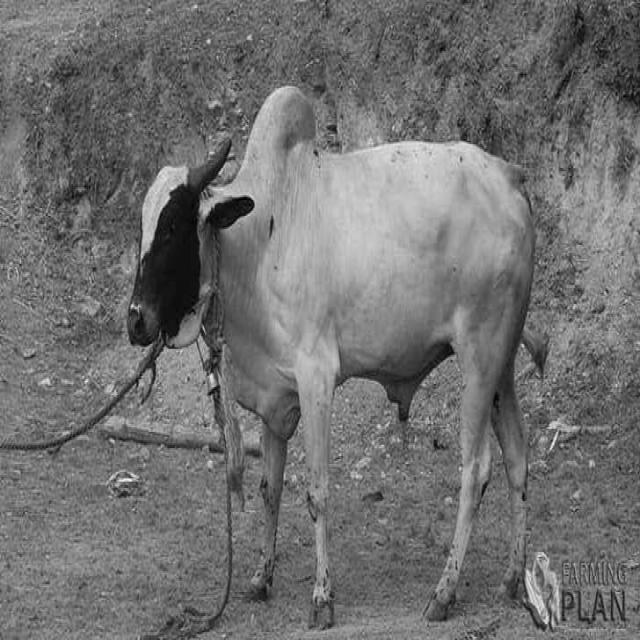Cow: (126, 82, 548, 630)
